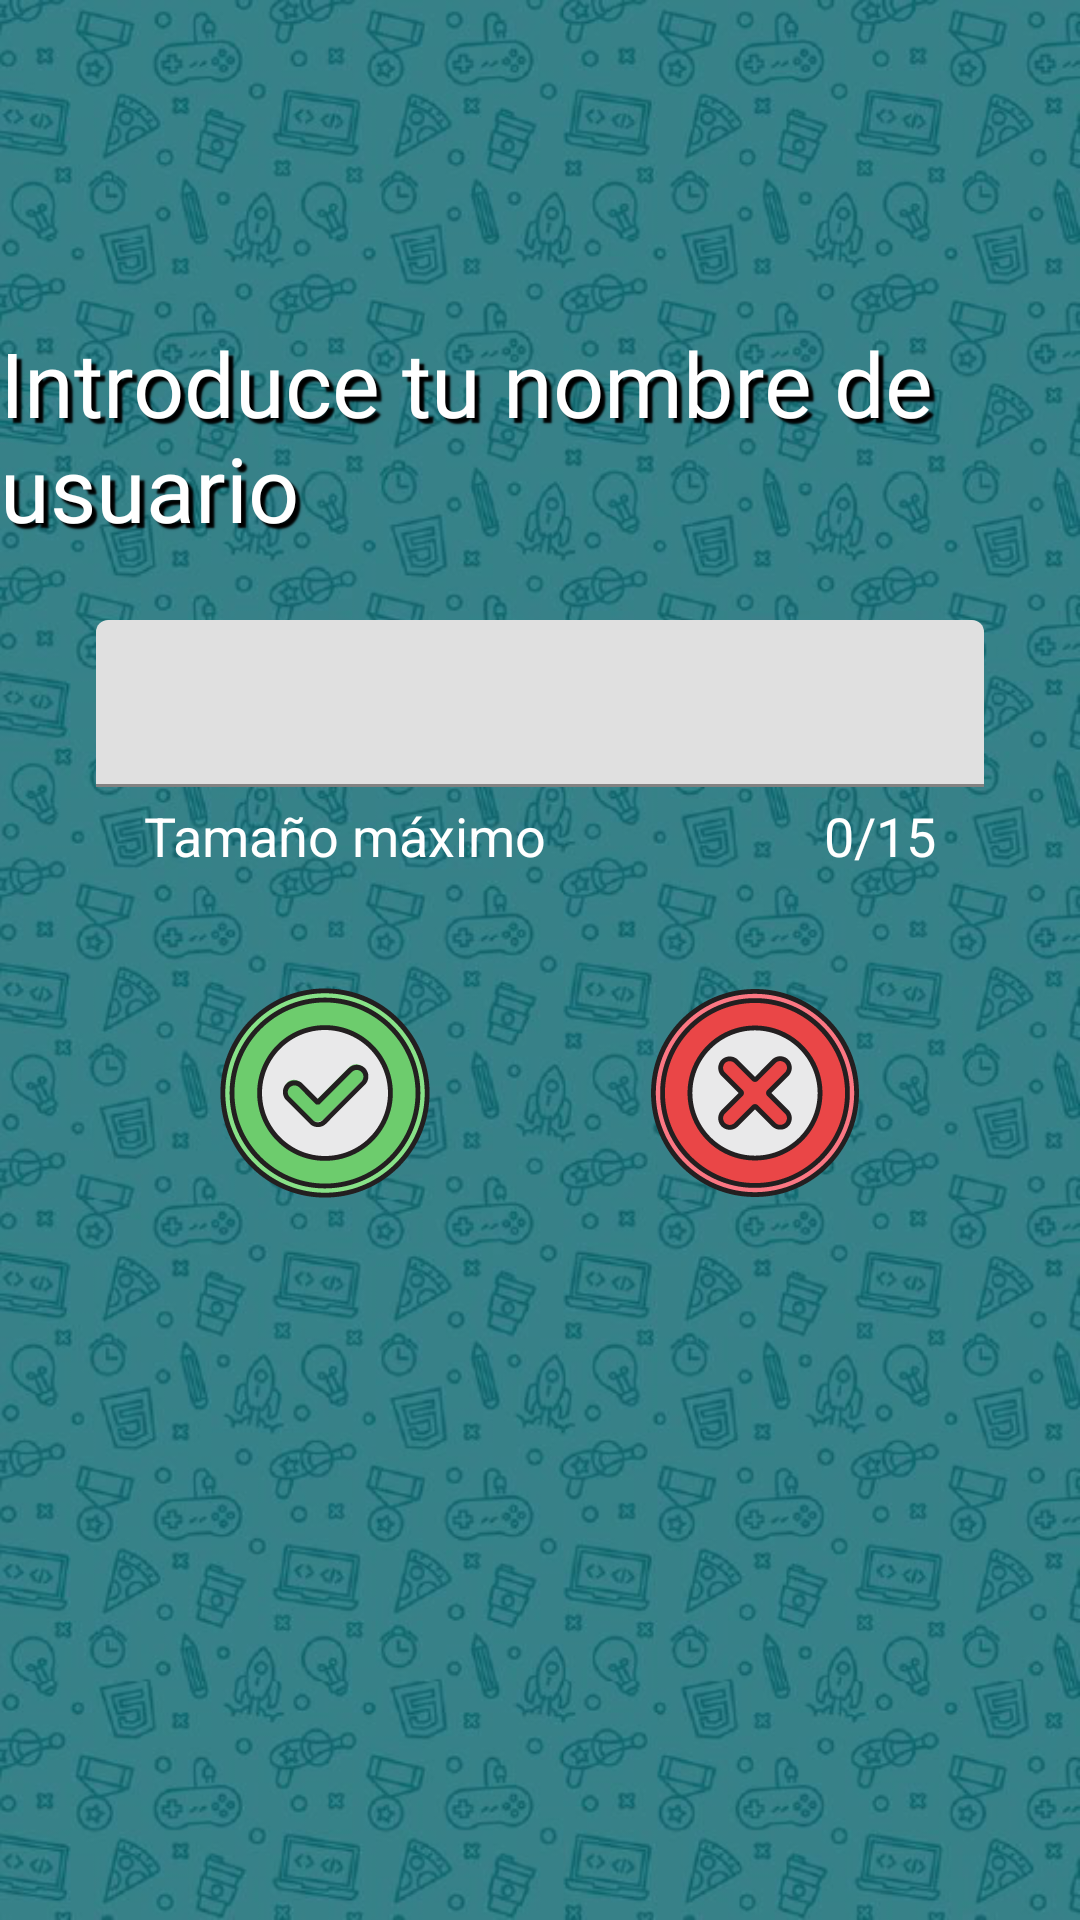

Icon bounding boxes for this 1080 × 1920 phone screenshot, format (x1=x1, y1=y1, x2=x2, y2=y2):
aceptar: (x1=220, y1=988, x2=430, y2=1198)
salir: (x1=650, y1=988, x2=860, y2=1198)
